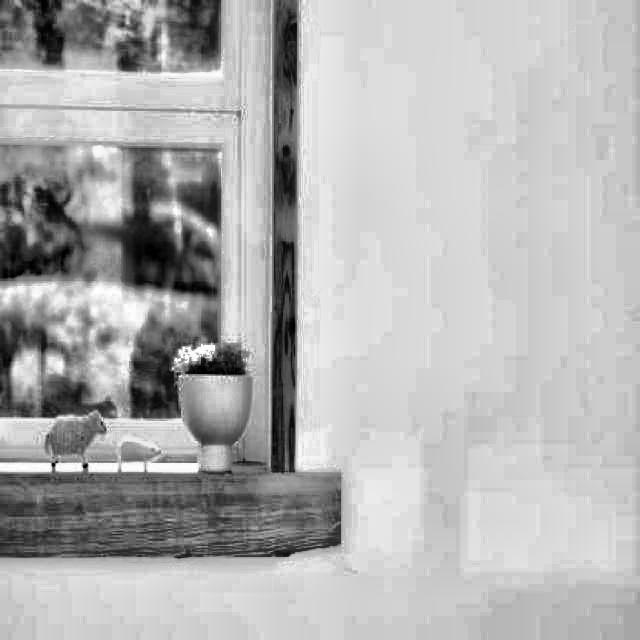plants: (180, 340, 252, 471)
